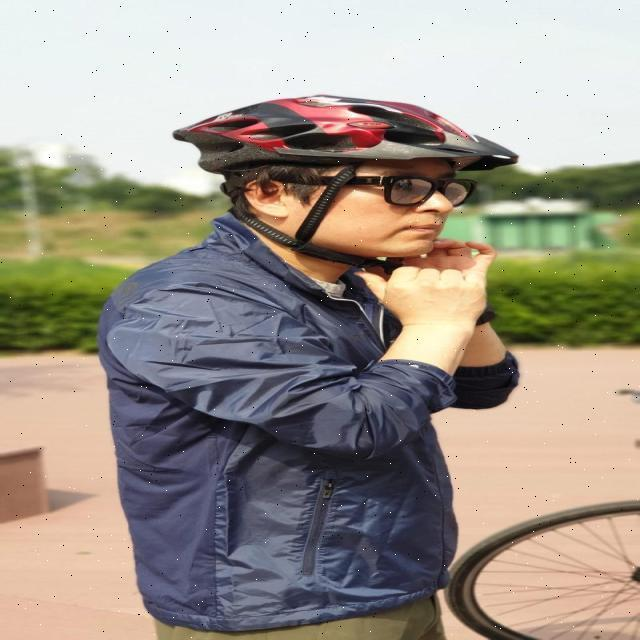helmet: (170, 88, 520, 276)
